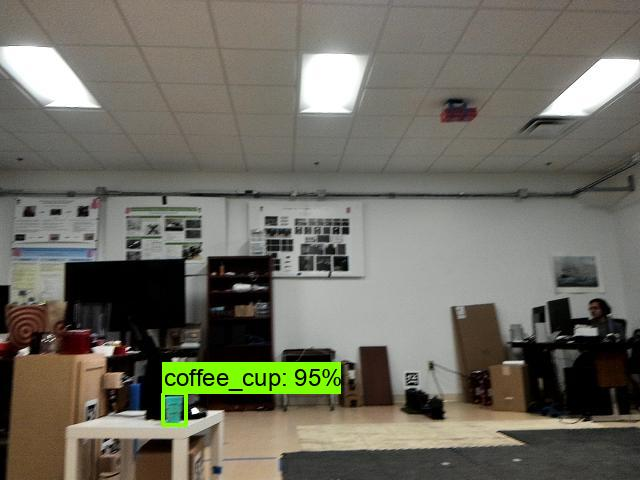coffee_cup: (163, 395, 186, 425)
